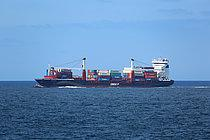Ship: (29, 53, 180, 90)
